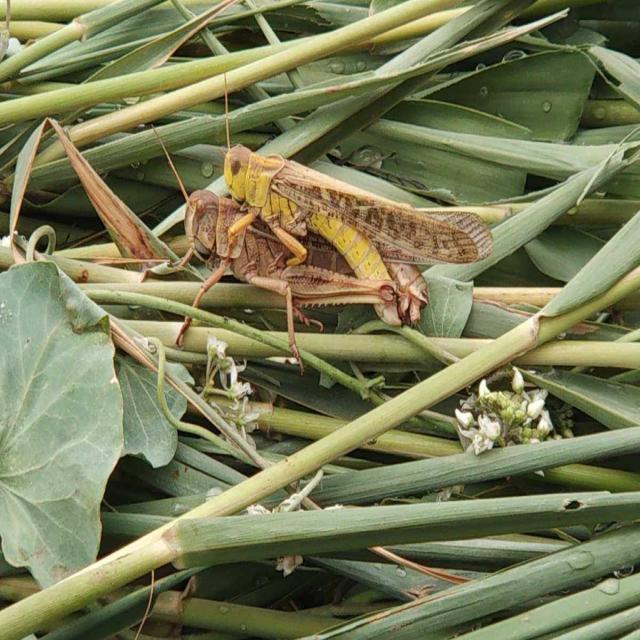ZhaMeng: (222, 132, 483, 320), (179, 185, 428, 334)
